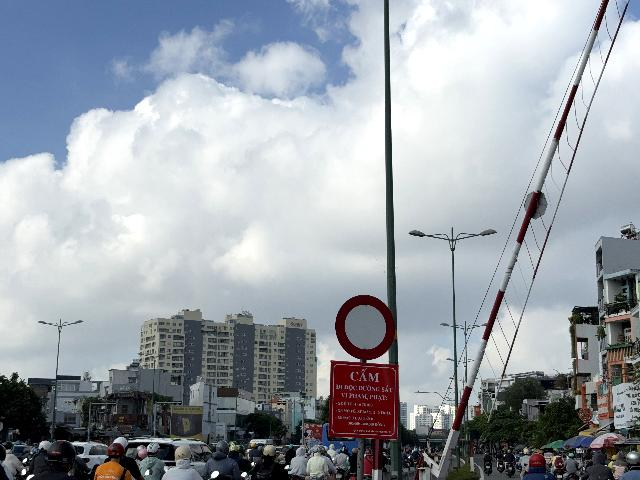duong-cam: (335, 294, 395, 361)
